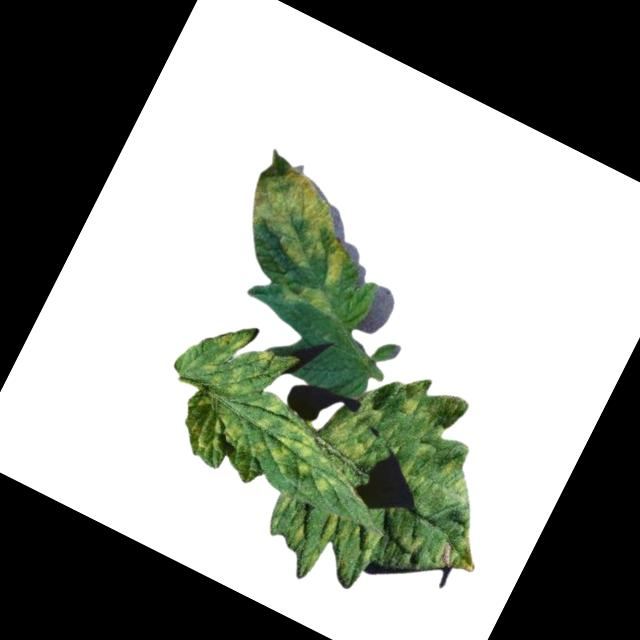Leaf_Mold: (251, 345, 540, 640), (140, 301, 383, 520), (213, 146, 389, 323)
